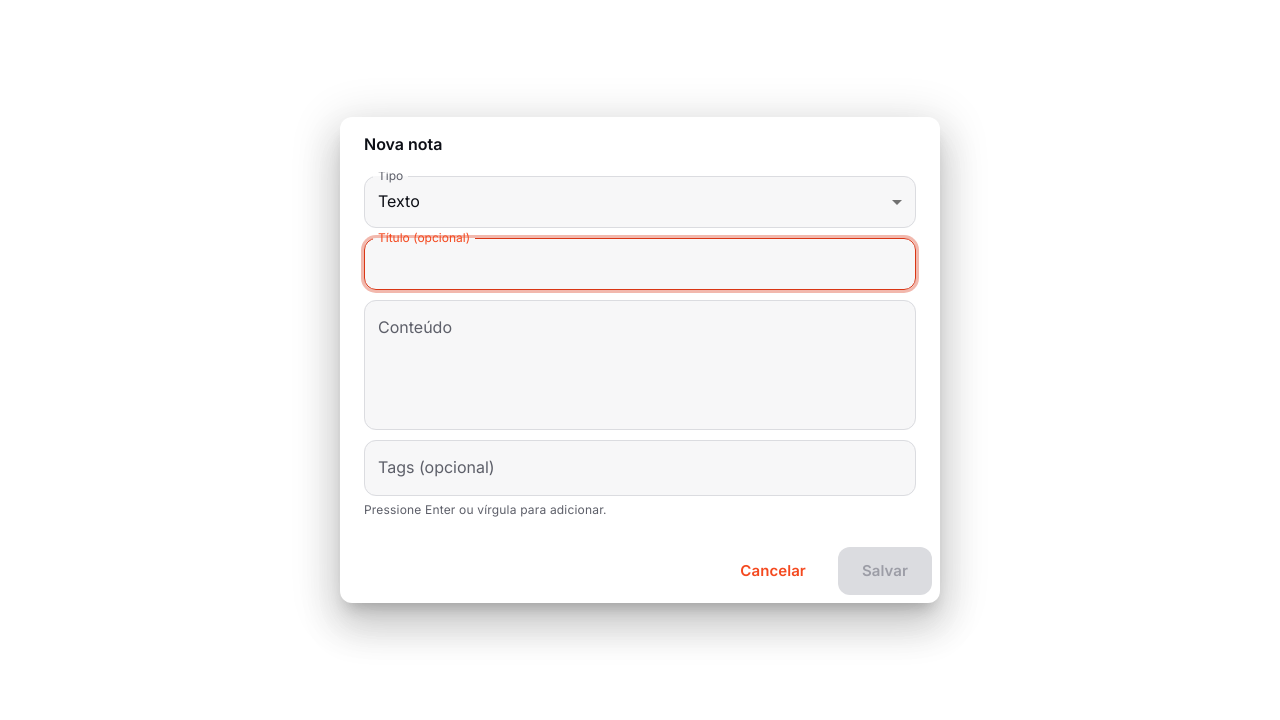
Test: NoteDialog › shows the link field only for link-type notes
Expected: the field labelled "Link" is not shown
Click the dropdown named "Tipo". click: (399, 201)
box: [378,191,420,211]
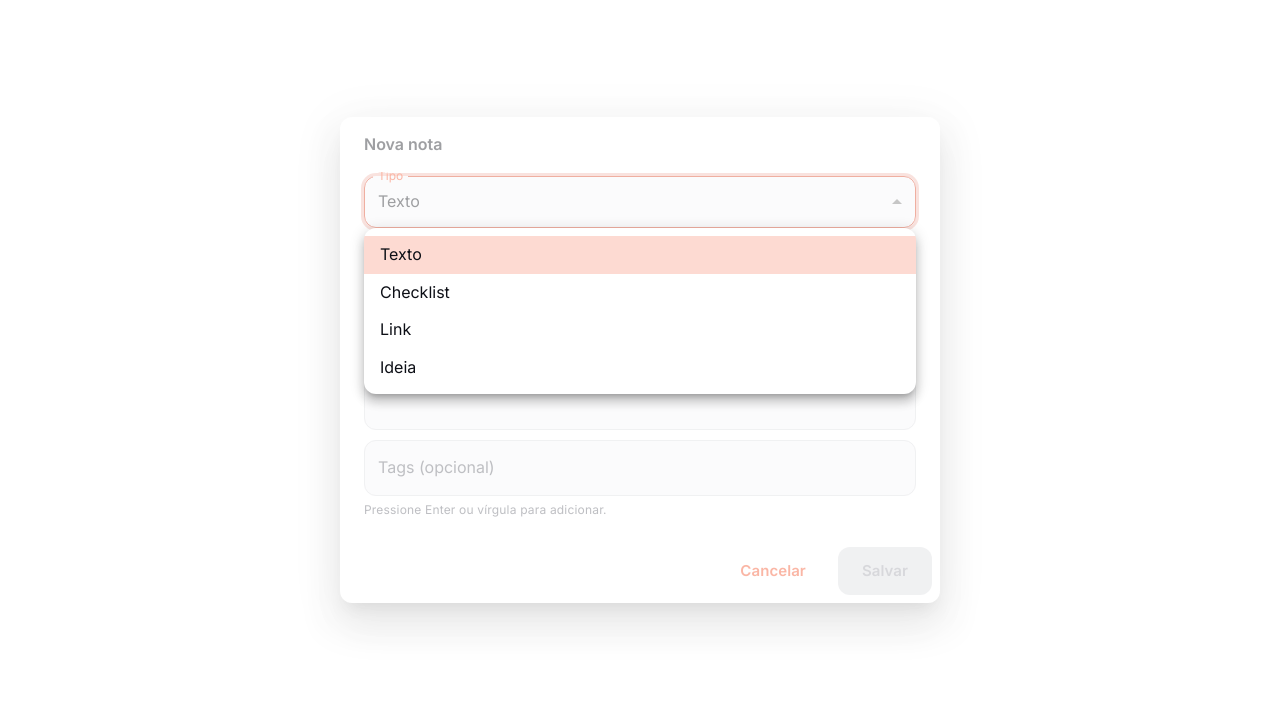
Click the option "Link". click: (396, 329)
box: [380,319,411,339]
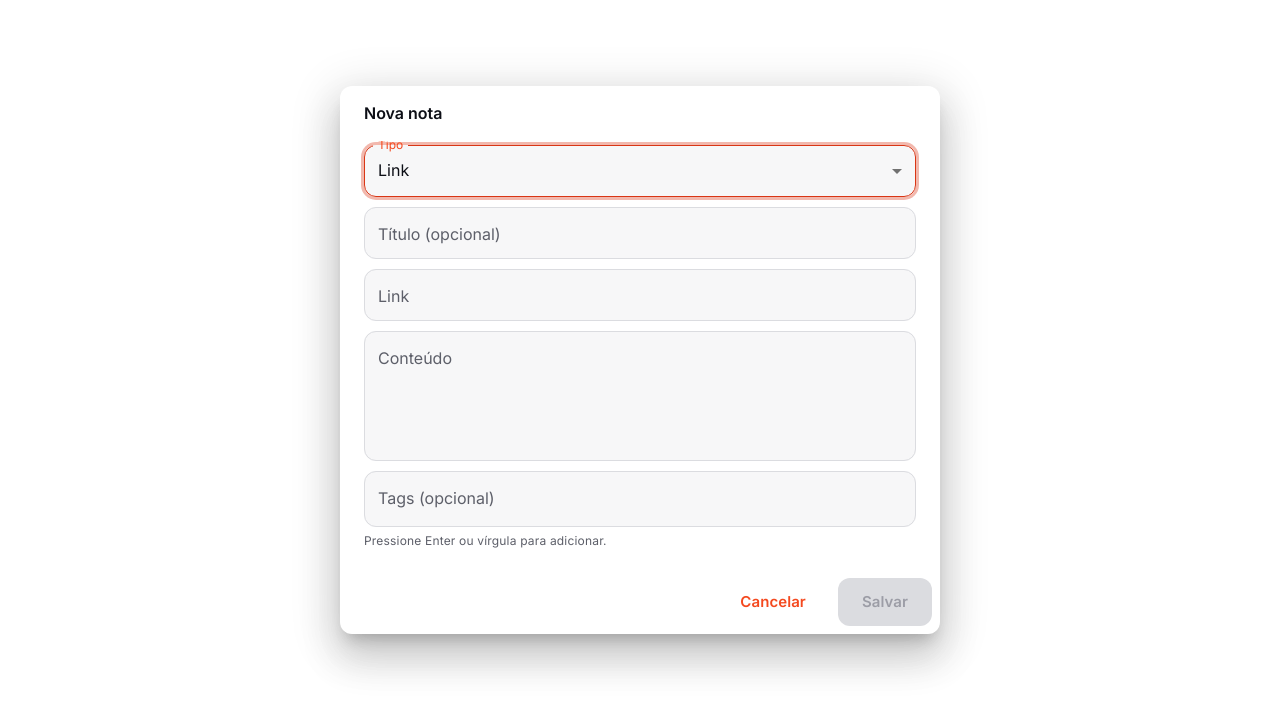
Expected: the field labelled "Link" is shown, [364,269,916,320]
